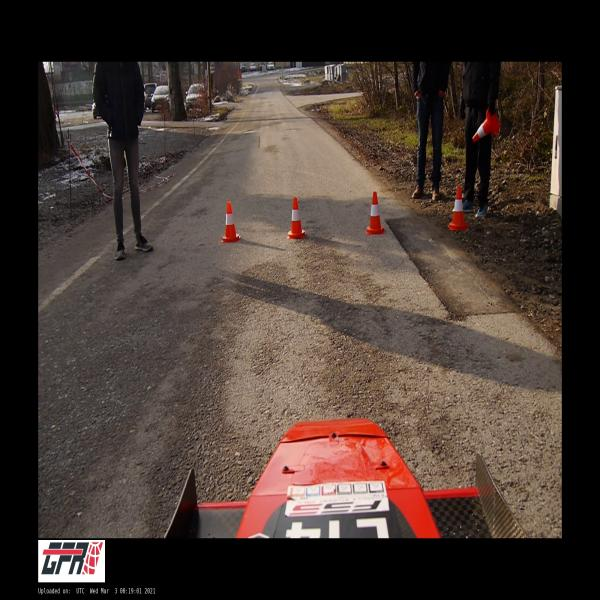orange_cone: (472, 108, 500, 142), (448, 187, 468, 230), (221, 202, 241, 242), (366, 192, 385, 234), (287, 197, 305, 239)
